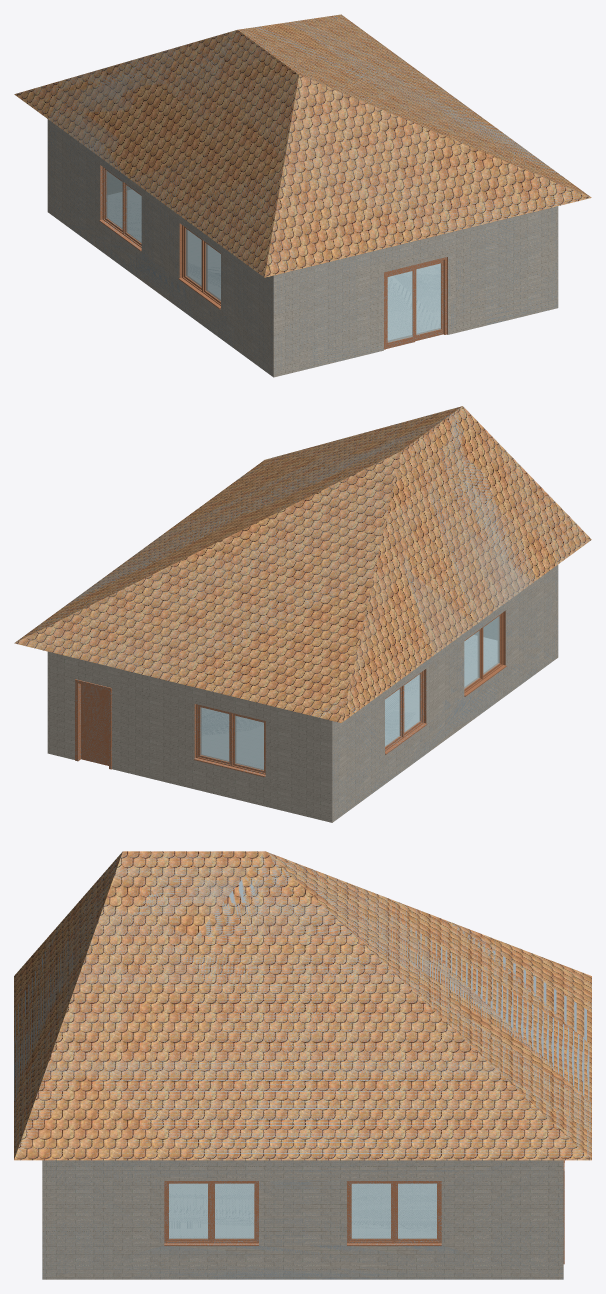
The model's file is telhado43.dae.
3 renders of one model, top to bottom at view 1: azimuth 30°, elevation 25°; view 2: azimuth 150°, elevation 25°; view 3: azimuth 270°, elevation 25°, orthographic. The views are drawn at different scales.
Parts seen in each view (by area): view 1: SketchUp (×11); view 2: SketchUp (×13); view 3: SketchUp (×11).
Part boxes in pixels (x1,y1,x2,y2): SketchUp (×11): [14, 14, 591, 377]; SketchUp (×13): [14, 406, 591, 822]; SketchUp (×11): [14, 851, 591, 1279].
Size of the model in its own units: 362 by 480 by 277.
11 materials, 6 textured.
